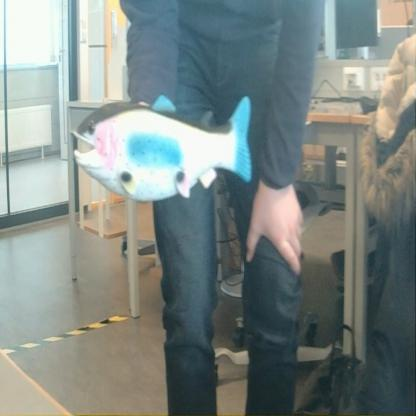rubberfish: (60, 87, 256, 207)
